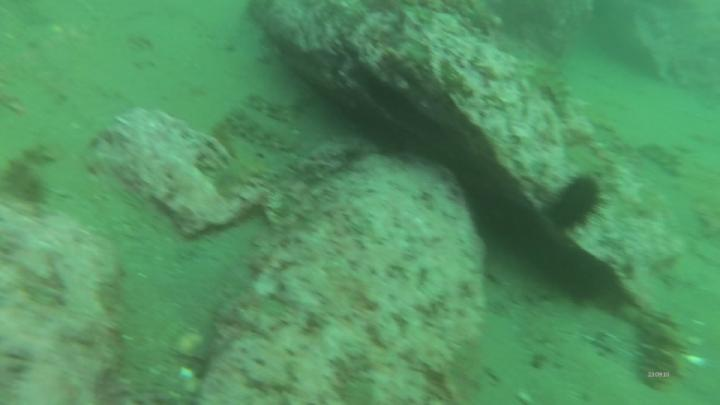echinus: (551, 173, 605, 237)
holothurian: (645, 309, 689, 391), (225, 106, 302, 148), (529, 64, 577, 120), (212, 151, 270, 196), (248, 88, 308, 119)
